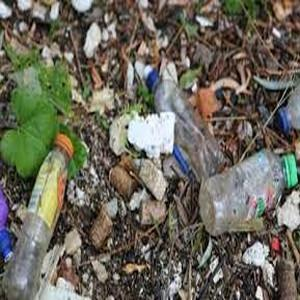Plastic: (194, 153, 300, 238), (145, 66, 227, 171)
